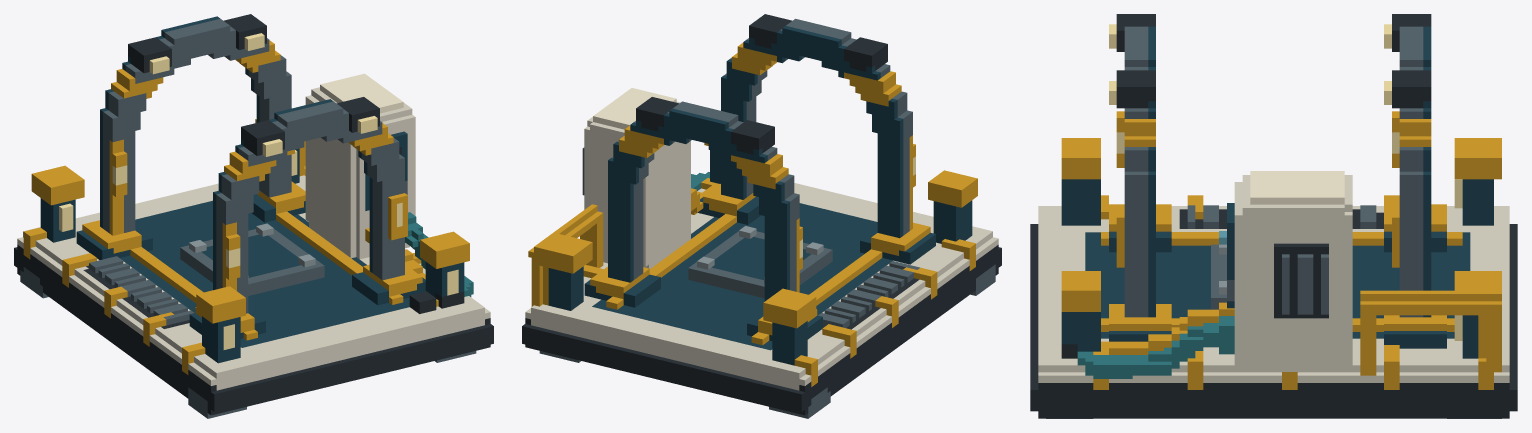
The model's file is docking_station.glb.
3 renders of one model, left to right at view 1: azimuth 30°, elevation 25°; view 2: azimuth 150°, elevation 25°; view 3: azimuth 270°, elevation 25°, orthographic. The views are drawn at different scales.
Visible parts, largest first — view 1: docking_station; view 2: docking_station; view 3: docking_station.
Boxes of the visible parts, x1=… form: docking_station: x1=14, y1=14, x2=493, y2=418; docking_station: x1=522, y1=14, x2=1001, y2=418; docking_station: x1=1030, y1=14, x2=1517, y2=418.
Bounding box in the file's own units: 5.83 × 4.62 × 6.82.
